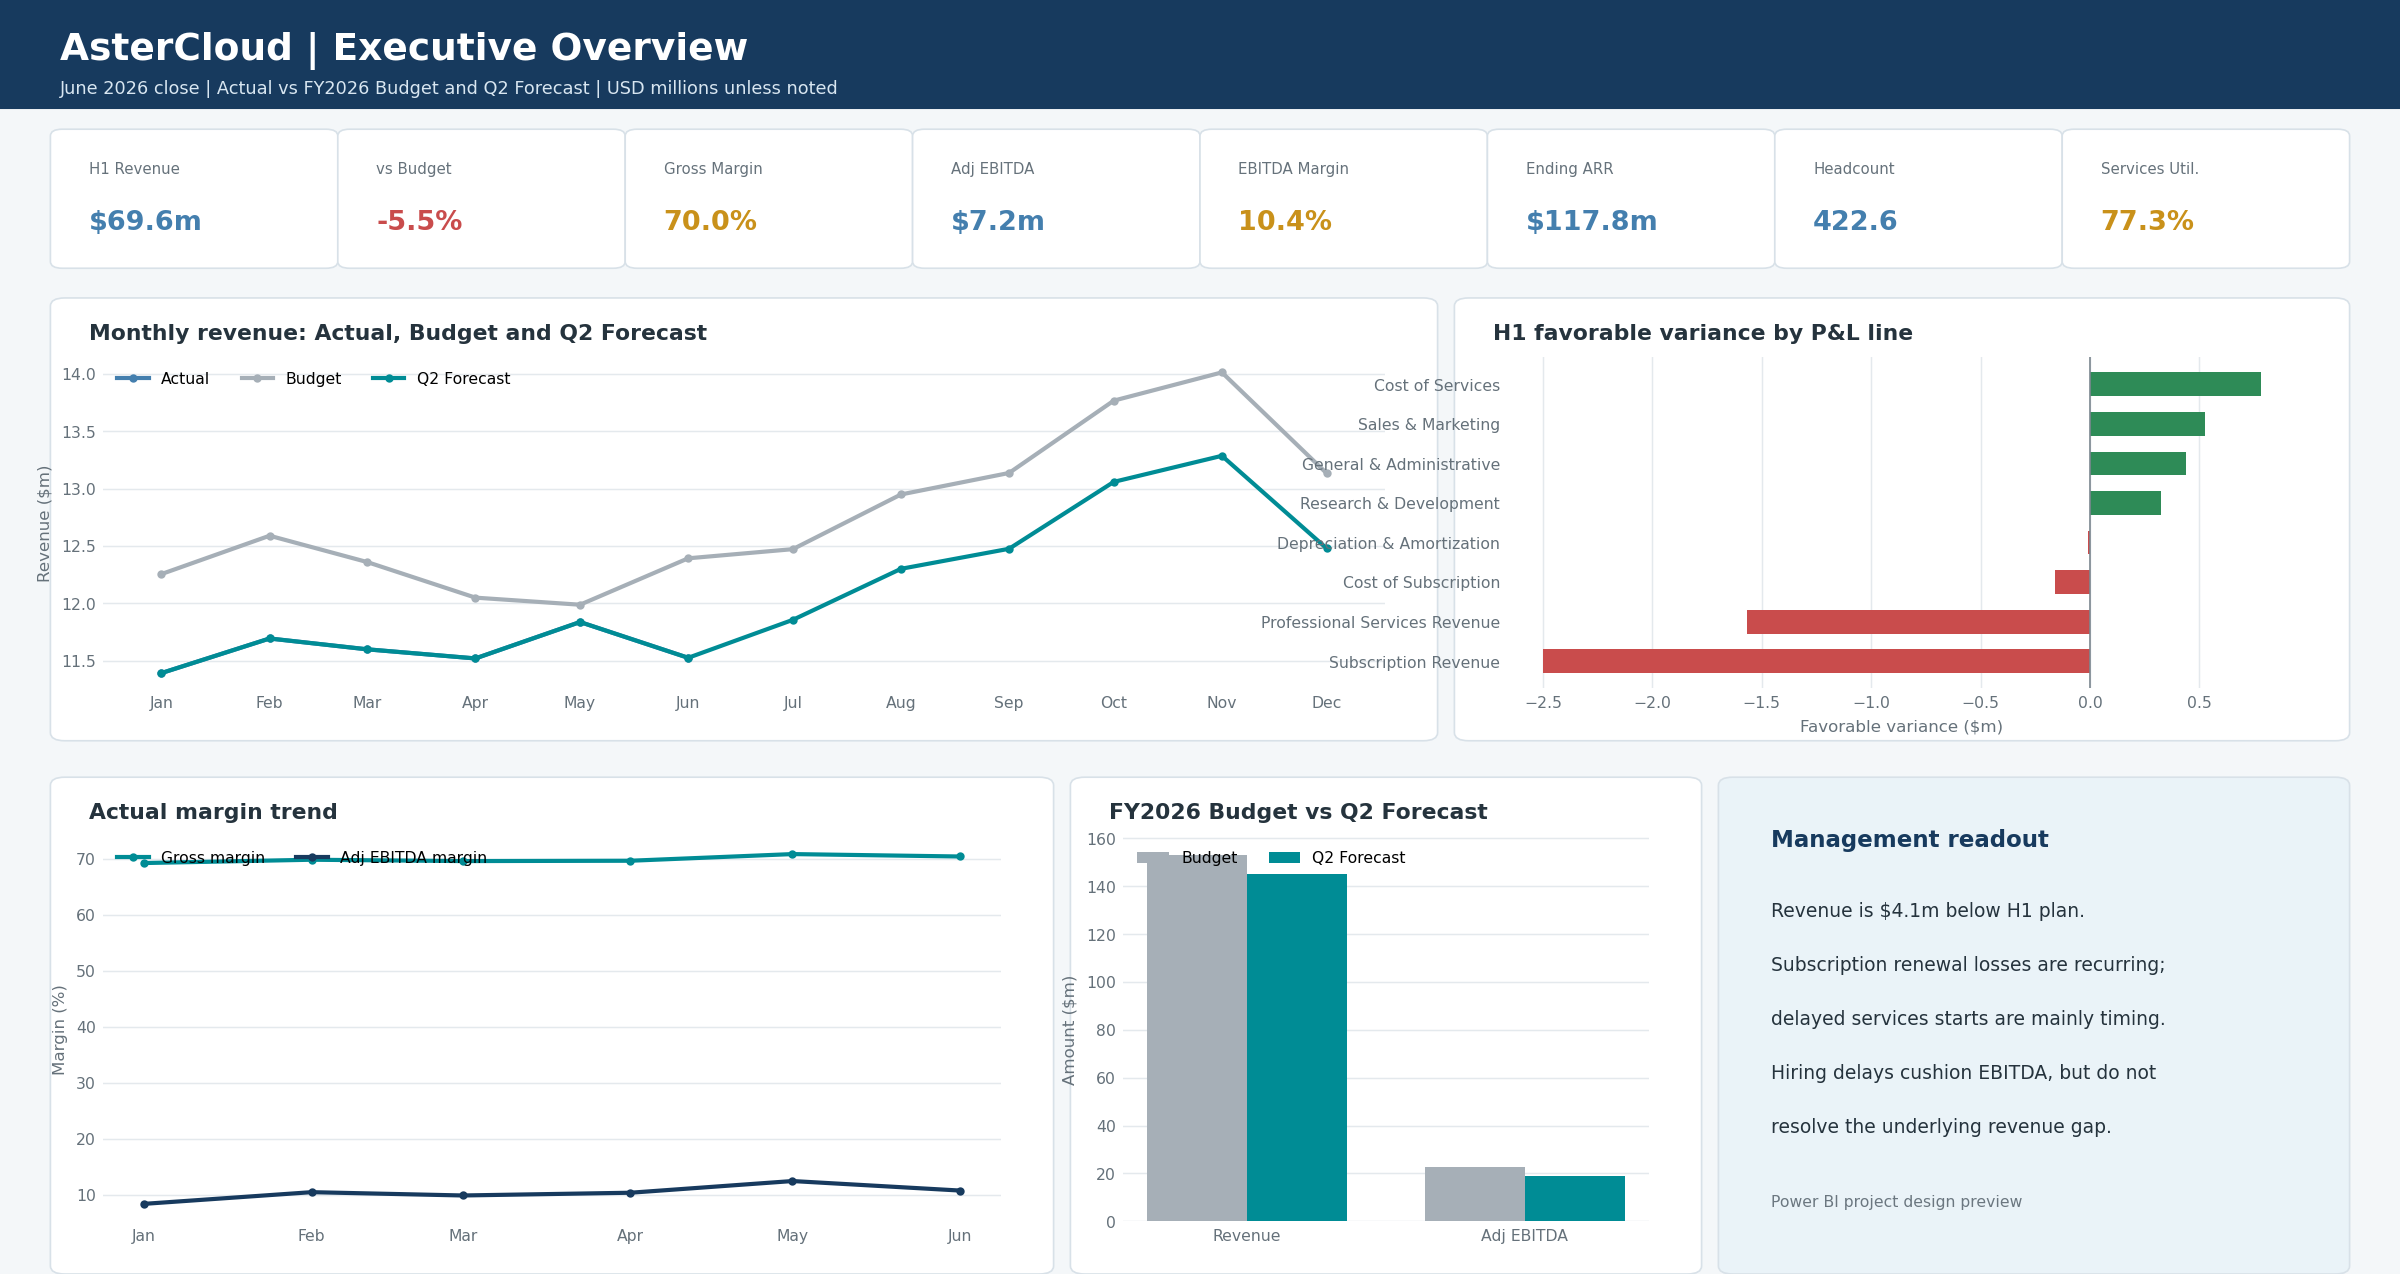

The dashboard page shown, as its layout file describes it:
{"tool":"tableau","page":{"name":"01 Executive Overview","canvas":[1366,768],"ordinal":0},"visuals":[{"type":"text","box":[0,0,1366,69.1]},{"type":"worksheet","title":"Exec KPI Strip","mark":"Text","cols":["Category"],"box":[13.7,80.6,1338.7,96]},{"type":"worksheet","title":"Monthly Revenue Trend","mark":"Line","rows":["Value"],"cols":["Period"],"box":[13.7,184.3,833.3,272.6]},{"type":"worksheet","title":"H1 Favorable Variance","mark":"Bar","rows":["Category"],"cols":["Value"],"box":[860.6,184.3,491.8,272.6]},{"type":"worksheet","title":"Actual Margin Trend","mark":"Line","rows":["Value"],"cols":["Period"],"box":[13.7,468.5,607.9,288]},{"type":"worksheet","title":"FY Outlook","mark":"Bar","rows":["Value"],"cols":["Category","Series"],"box":[635.2,468.5,362,288]},{"type":"text","box":[1010.8,468.5,341.5,288]}]}

Visuals, with their boxes on the page's 1366x768 design canvas (x1, y1, x2, y2). These are canvas units, not pixel positions in the 2400x1274 screenshot, which may show the page scaled, cropped or inside an application window:
text: (left=0, top=0, right=1366, bottom=69)
"Exec KPI Strip" worksheet (Text marks): (left=14, top=81, right=1352, bottom=177)
"Monthly Revenue Trend" worksheet (Line marks): (left=14, top=184, right=847, bottom=457)
"H1 Favorable Variance" worksheet (Bar marks): (left=861, top=184, right=1352, bottom=457)
"Actual Margin Trend" worksheet (Line marks): (left=14, top=468, right=622, bottom=756)
"FY Outlook" worksheet (Bar marks): (left=635, top=468, right=997, bottom=756)
text: (left=1011, top=468, right=1352, bottom=756)
